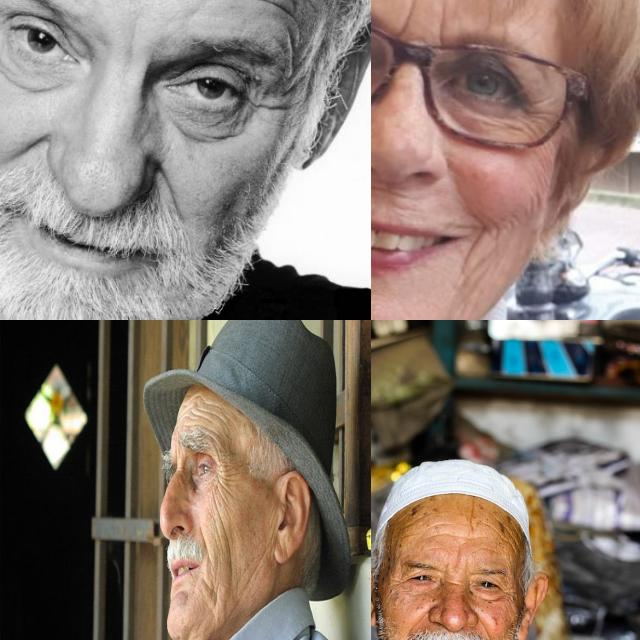crows_feet: (254, 68, 288, 120), (524, 106, 550, 142), (213, 458, 230, 490), (387, 576, 403, 592), (502, 586, 514, 606)
forehead: (245, 0, 310, 26), (484, 518, 520, 548), (399, 510, 428, 538), (200, 405, 221, 423), (206, 429, 224, 449), (191, 391, 207, 405), (187, 410, 199, 426)
frown_line: (387, 0, 419, 40), (432, 6, 452, 52), (450, 546, 466, 576), (173, 445, 181, 467)
gummy_smile: (150, 164, 190, 218), (12, 126, 52, 160), (409, 604, 431, 636), (474, 614, 492, 638), (198, 526, 210, 558)
masseter: (518, 182, 544, 218), (213, 502, 230, 544), (247, 556, 264, 590), (224, 544, 237, 580), (208, 574, 221, 610)
sad_smile: (458, 214, 484, 276)
